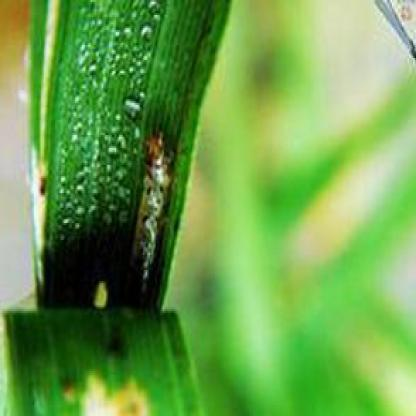leaf-folder: (109, 110, 189, 308)
